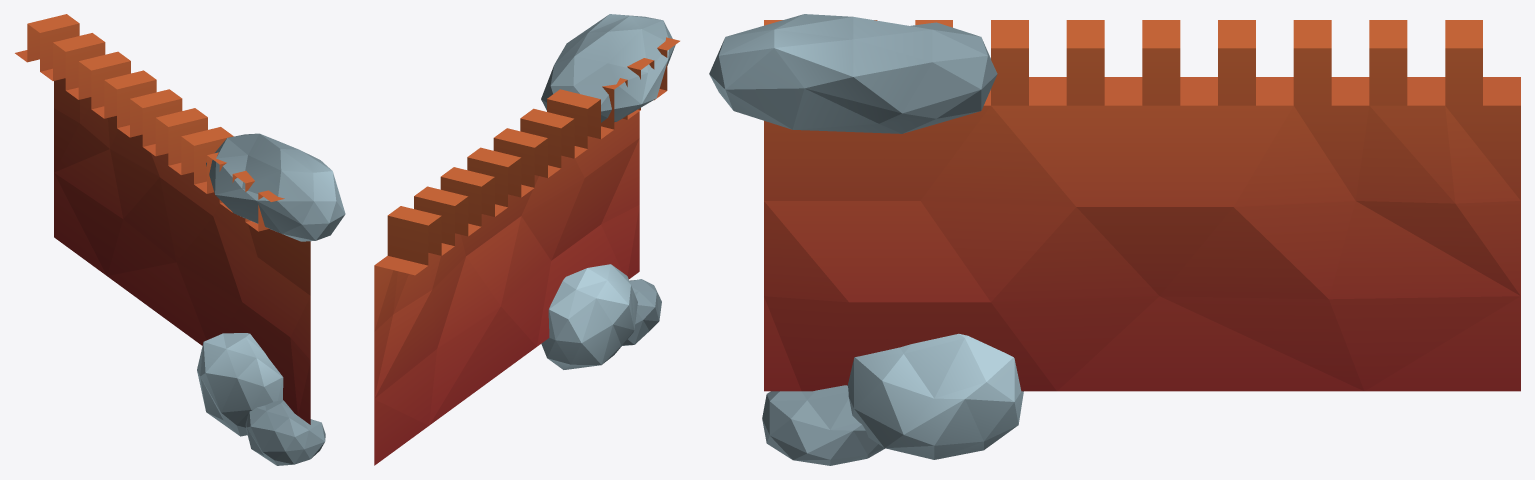
The model's file is SM_RedWall.fbx.
3 views of the same model, side by side, from view 1: azimuth 30°, elevation 25°; view 2: azimuth 150°, elevation 25°; view 3: azimuth 270°, elevation 25° (orthographic). The views are drawn at different scales.
Parts seen in each view (by area): view 1: SM_RedWall; view 2: SM_RedWall; view 3: SM_RedWall.
Part boxes in pixels (left/top/right/bottom): SM_RedWall: left=15, top=14, right=345, bottom=465; SM_RedWall: left=374, top=14, right=679, bottom=465; SM_RedWall: left=709, top=14, right=1520, bottom=465.
Size of the model in its own units: 244 by 776 by 1287.
